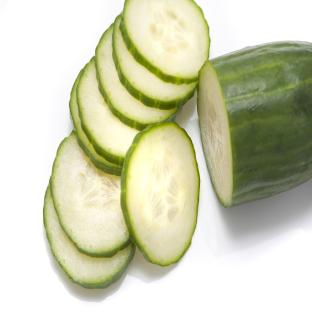Cucumber: (198, 42, 311, 207), (121, 123, 199, 266), (50, 132, 130, 257), (44, 185, 135, 288), (96, 25, 180, 130), (113, 16, 196, 109), (77, 58, 138, 165), (70, 71, 122, 175)
